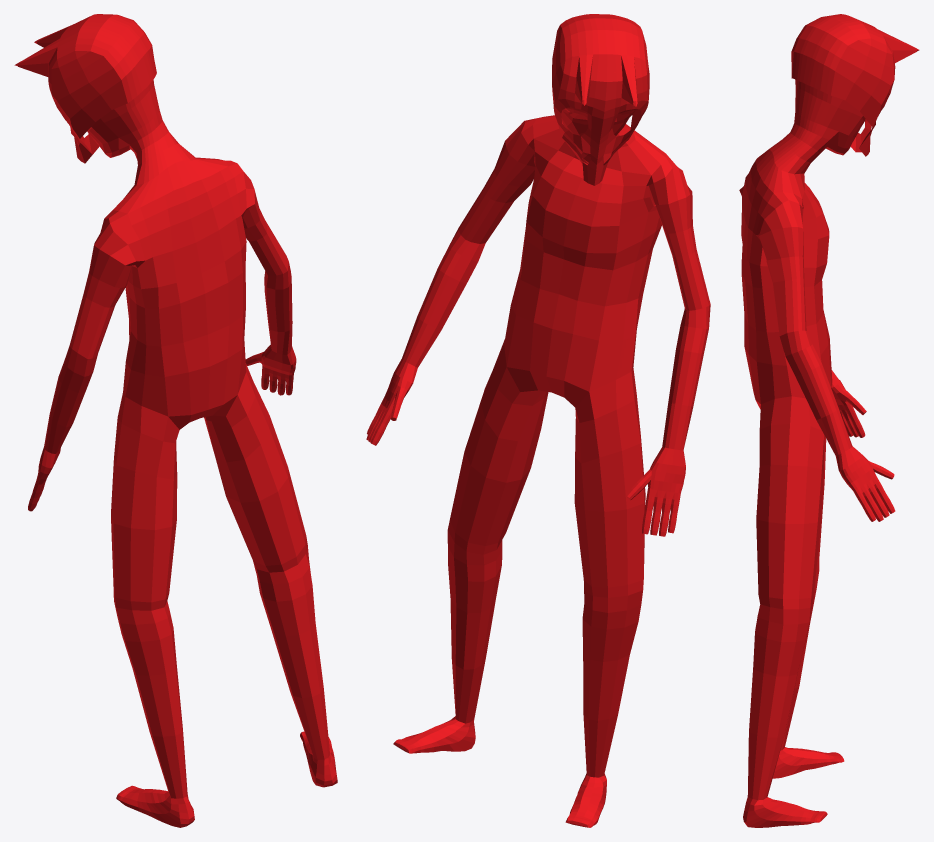
The model's file is reposoE_000275.obj.
3 renders of one model, left to right at view 1: azimuth 30°, elevation 25°; view 2: azimuth 150°, elevation 25°; view 3: azimuth 270°, elevation 25°, orthographic. The views are drawn at different scales.
Visible parts, largest first — view 1: Plane.002_Plane.001; view 2: Plane.002_Plane.001; view 3: Plane.002_Plane.001.
Part boxes in pixels (left/top/right/bottom): Plane.002_Plane.001: left=14, top=14, right=337, bottom=827; Plane.002_Plane.001: left=366, top=14, right=710, bottom=827; Plane.002_Plane.001: left=739, top=14, right=919, bottom=827.
Bounding box in the file's own units: 2.67 × 7.09 × 1.57.
